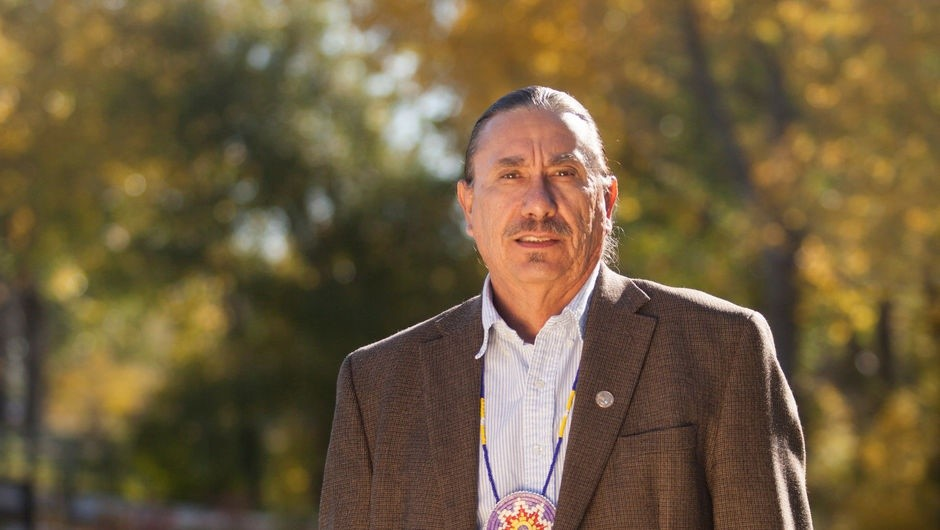face_no_mask: (456, 87, 616, 297)
